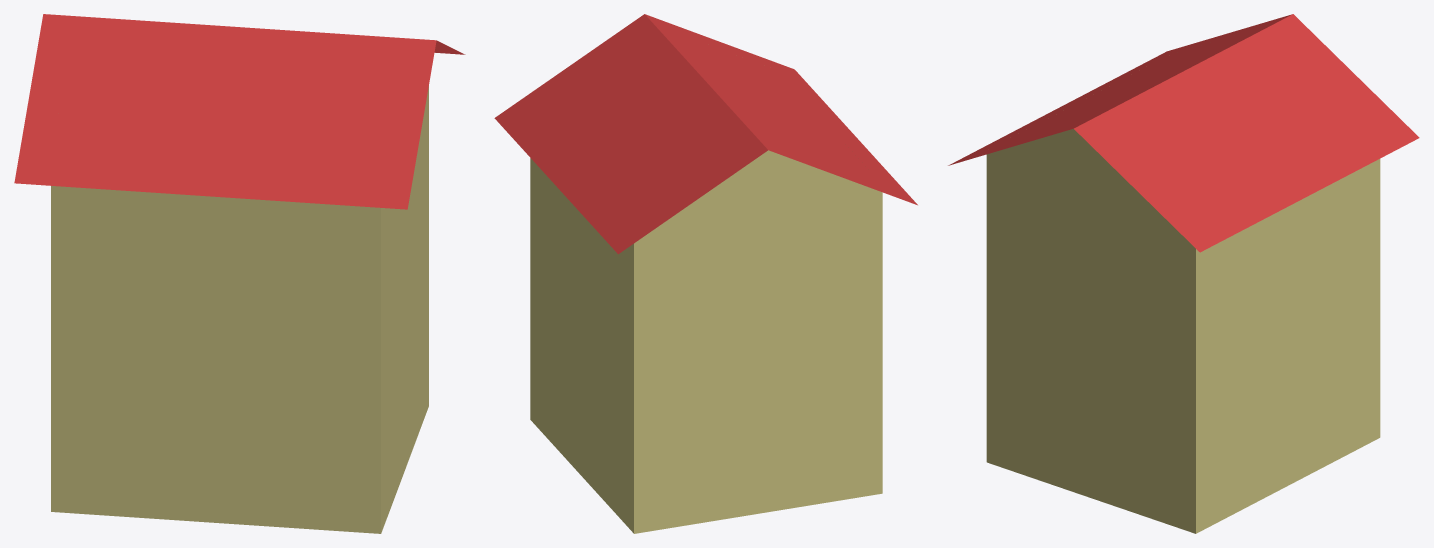
3 renders of one model, left to right at view 1: azimuth 30°, elevation 25°; view 2: azimuth 150°, elevation 25°; view 3: azimuth 270°, elevation 25°, orthographic. The views are drawn at different scales.
Parts seen in each view (by area): view 1: group_5, group_3, group_4; view 2: group_5, group_3, group_4; view 3: group_5, group_3, group_4.
Part boxes in pixels (x1,y1,x2,y2): group_5: (51,86,428,533); group_3: (51,16,435,207); group_4: (14,14,465,209); group_5: (530,150,882,533); group_3: (494,14,881,254); group_4: (641,14,917,205); group_5: (986,129,1380,533); group_3: (988,14,1419,252); group_4: (948,14,1292,165).
Size of the model in its own units: 12.76 by 12.66 by 11.2.
